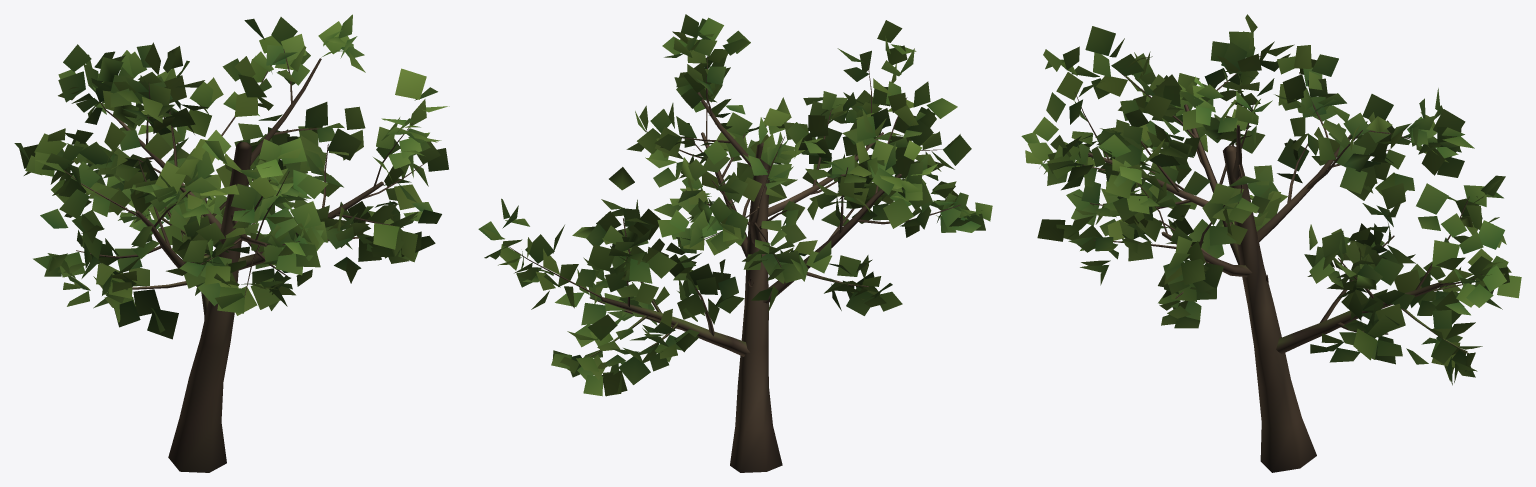
The model's file is oak-c.lod1.glb.
3 renders of one model, left to right at view 1: azimuth 30°, elevation 25°; view 2: azimuth 150°, elevation 25°; view 3: azimuth 270°, elevation 25°, orthographic. The views are drawn at different scales.
Size of the model in its own units: 9.03 by 9.37 by 9.82.
